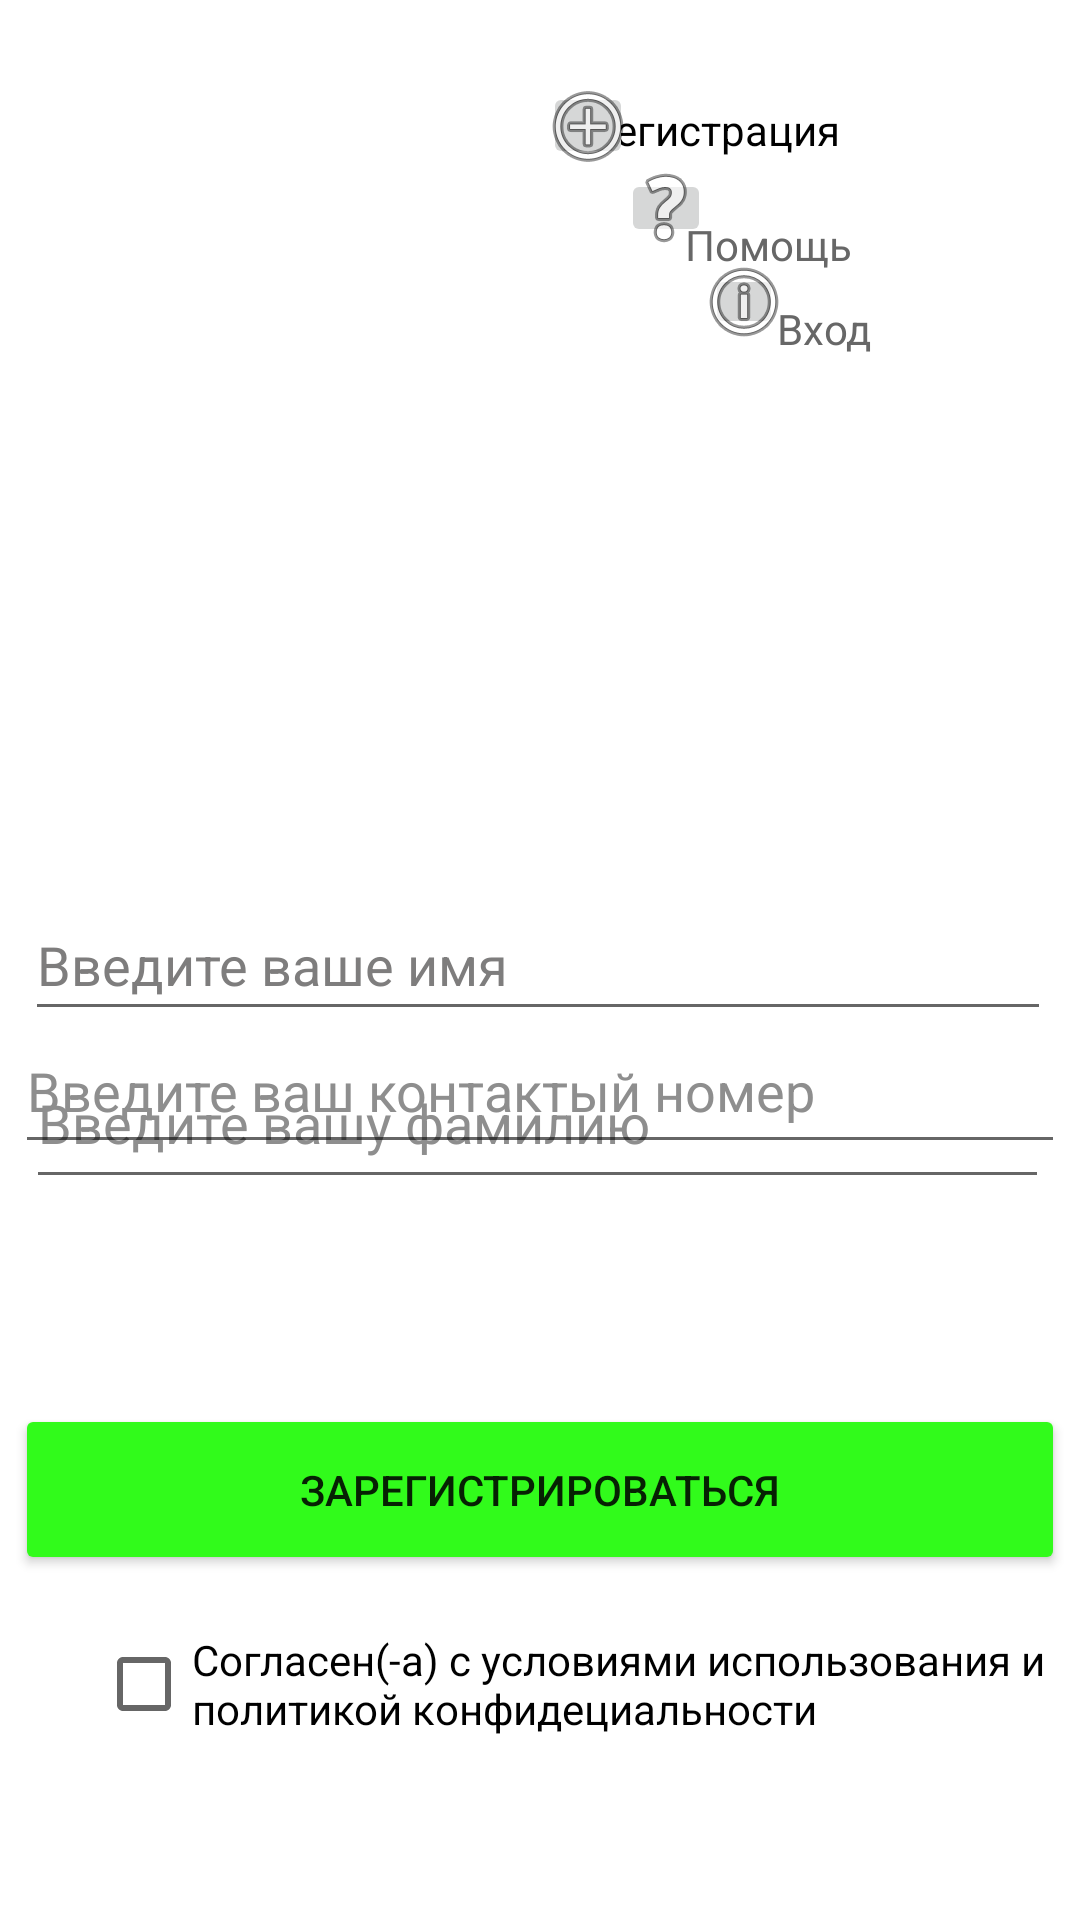

Named icons in this screenshot (1080 x 1920) and their centers, (x=x, y=y):
add: (x=592, y=126)
info details: (x=744, y=302)
